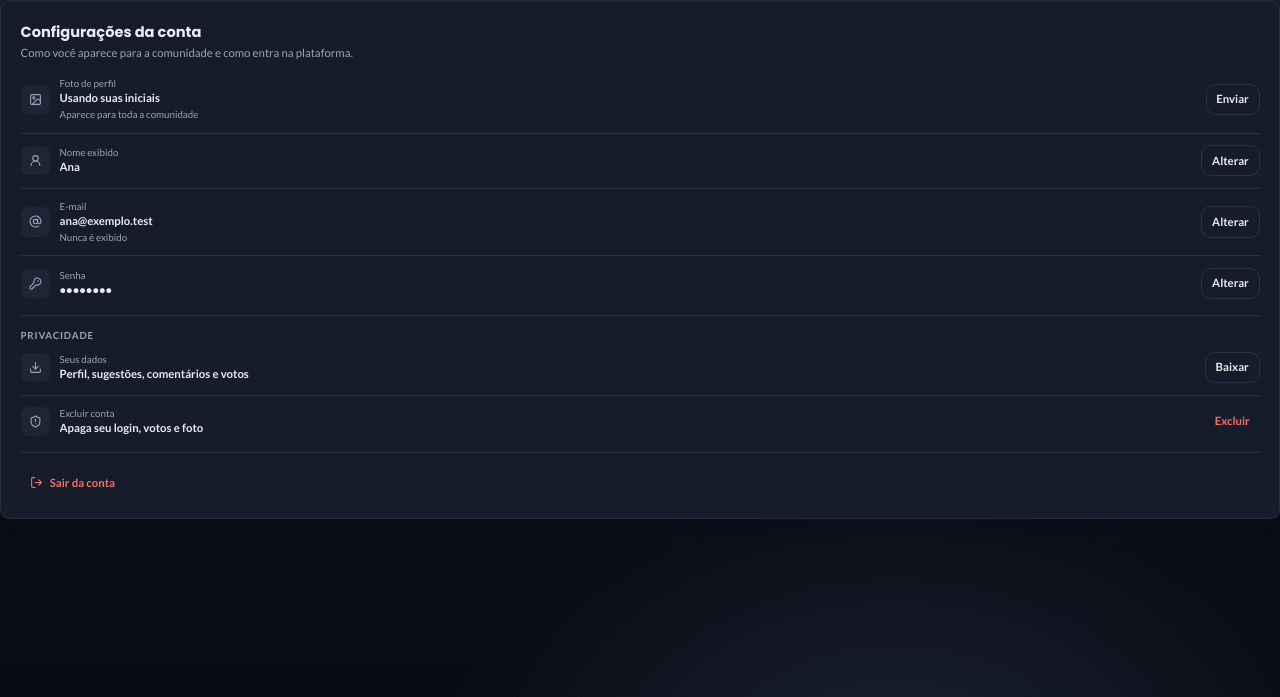
Test: Configurações da conta: senha › não troca a senha quando a senha atual está errada
The width and height of the screenshot is (1280, 697).
Click the button "Alterar" in the row of "Senha": (1230, 283) [1201, 268, 1260, 299]
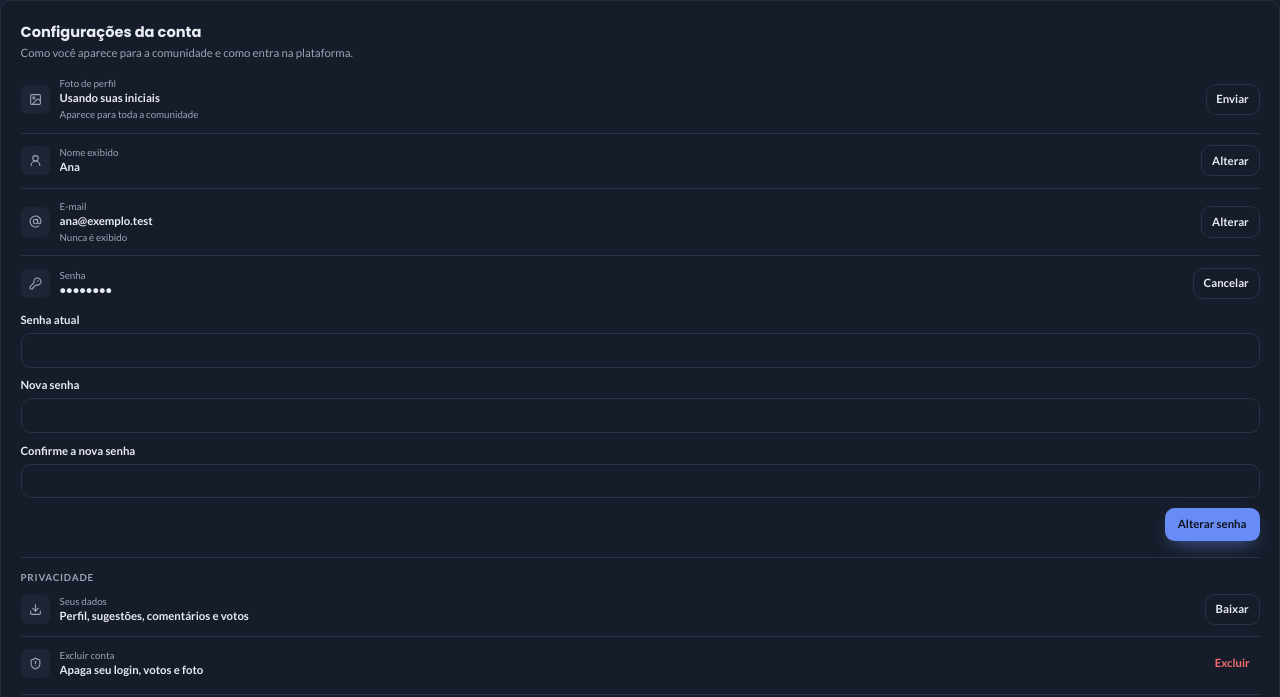
In the password field labelled "Senha atual": (640, 350) [20, 333, 1260, 368], type "errada-123"
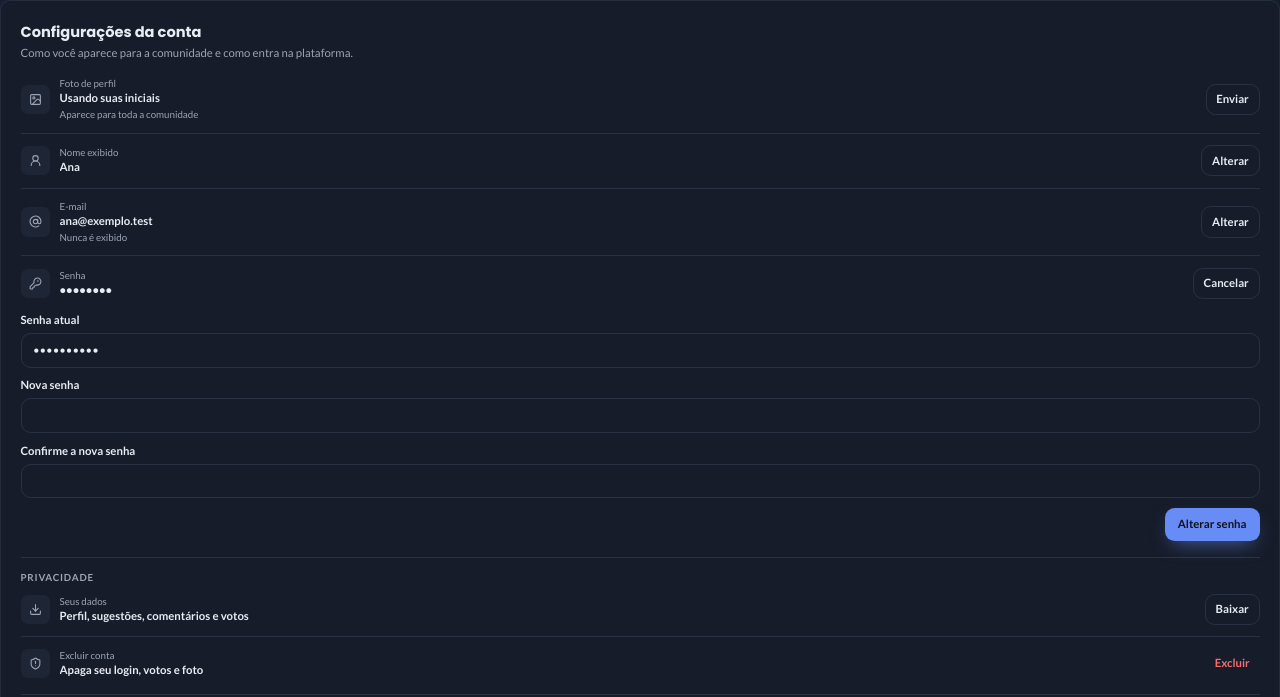
In the password field labelled "Nova senha": (640, 416) [20, 398, 1260, 433], type "senha-nova-123"
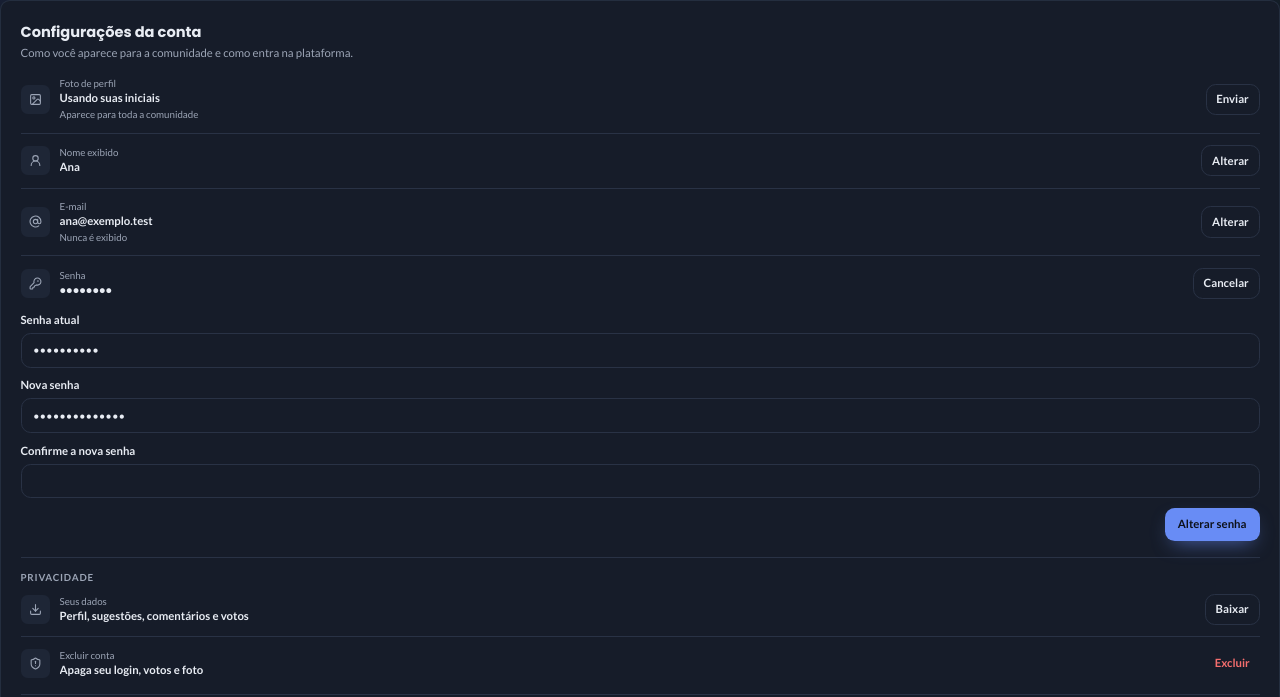
In the password field labelled "Confirme a nova senha": (640, 481) [20, 464, 1260, 498], type "senha-nova-123"
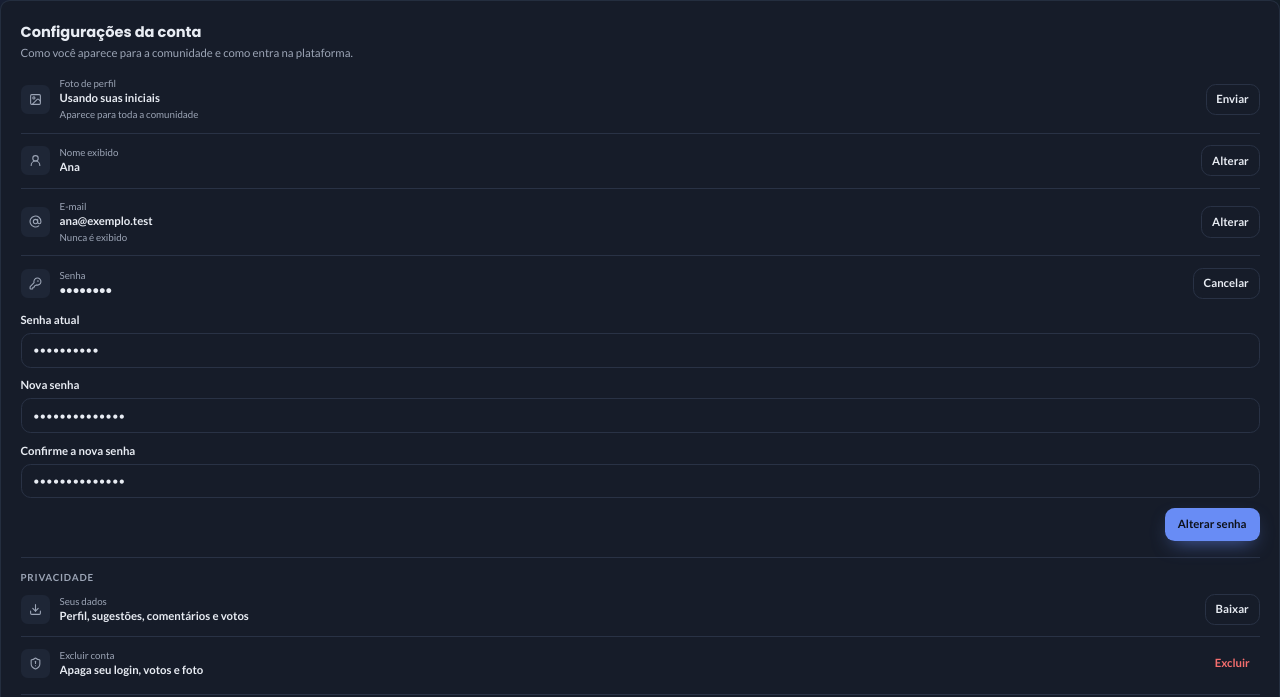
Click the button "Alterar senha": (1212, 524) [1165, 508, 1260, 540]
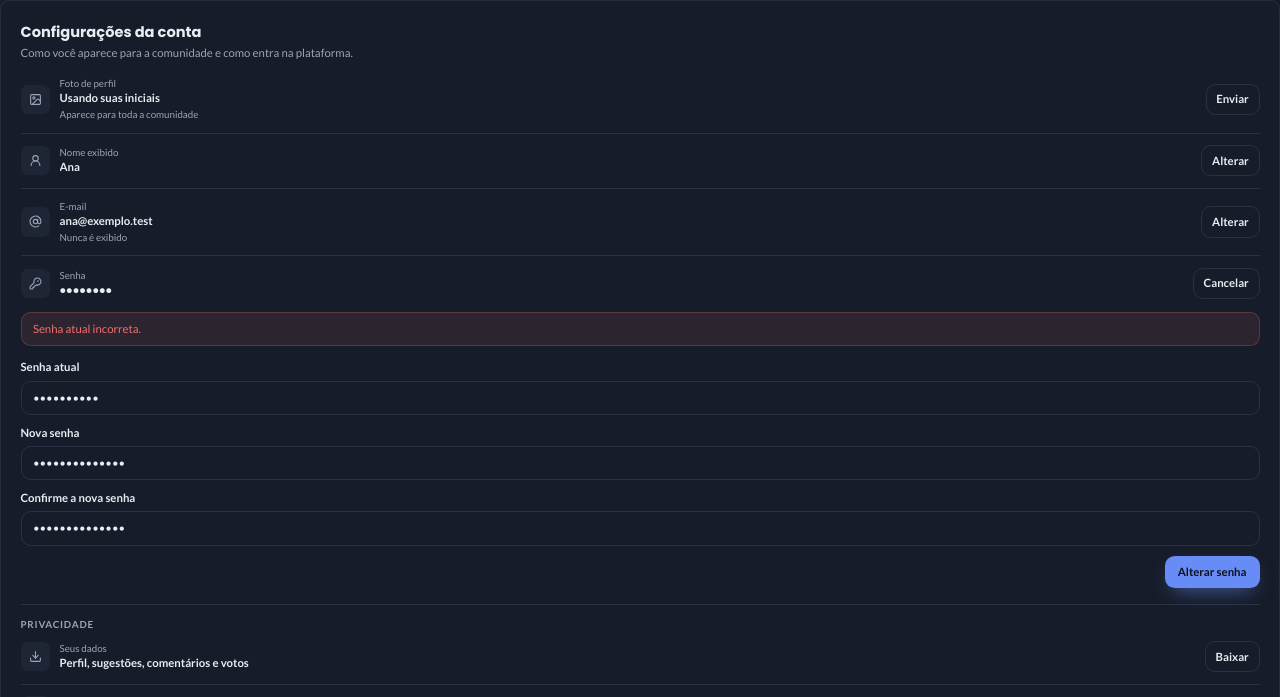
Expected: the text "Senha atual incorreta." is shown, [20, 312, 1260, 346]
